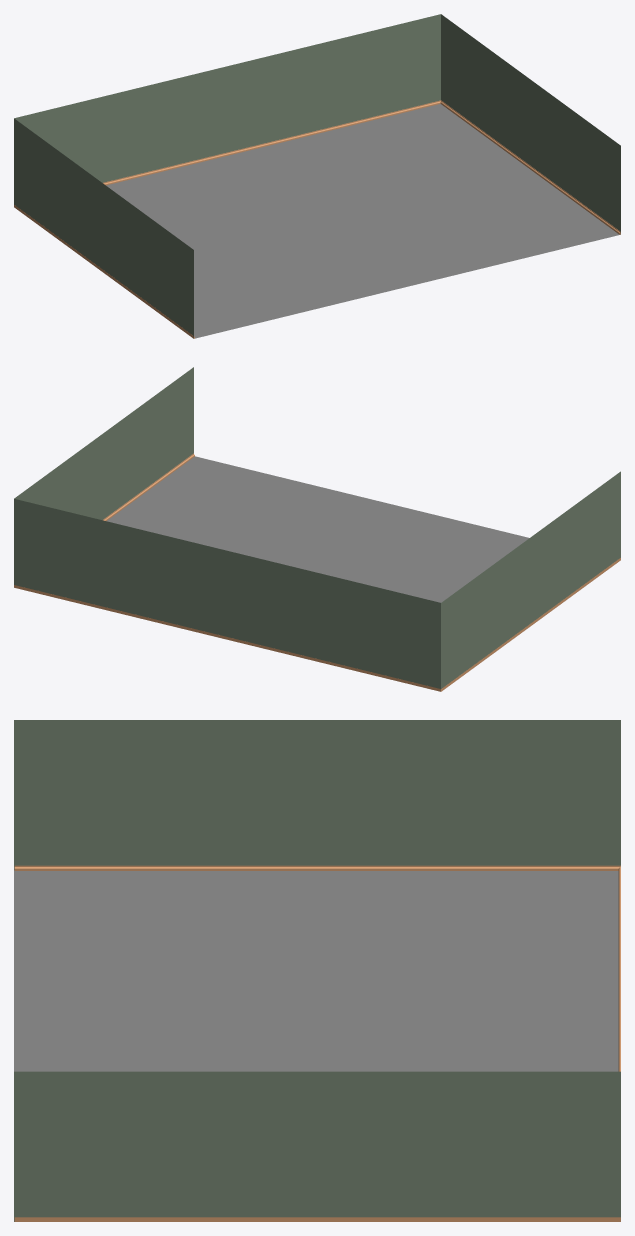
The model's file is Greenroom.fbx.
3 views of the same model, one above another, from view 1: azimuth 30°, elevation 25°; view 2: azimuth 150°, elevation 25°; view 3: azimuth 270°, elevation 25° (orthographic). The views are drawn at different scales.
Parts seen in each view (by area): view 1: Greenhouse, Trimming Greenhouse; view 2: Greenhouse, Trimming Greenhouse; view 3: Greenhouse, Trimming Greenhouse.
Boxes of the visible parts, <box> form: Greenhouse: <box>14,14,620,338</box>; Trimming Greenhouse: <box>14,100,620,338</box>; Greenhouse: <box>14,367,620,688</box>; Trimming Greenhouse: <box>14,453,620,691</box>; Greenhouse: <box>14,720,620,1221</box>; Trimming Greenhouse: <box>14,865,620,1221</box>.
Bounding box in the file's own units: 3014 × 600 × 2198.
